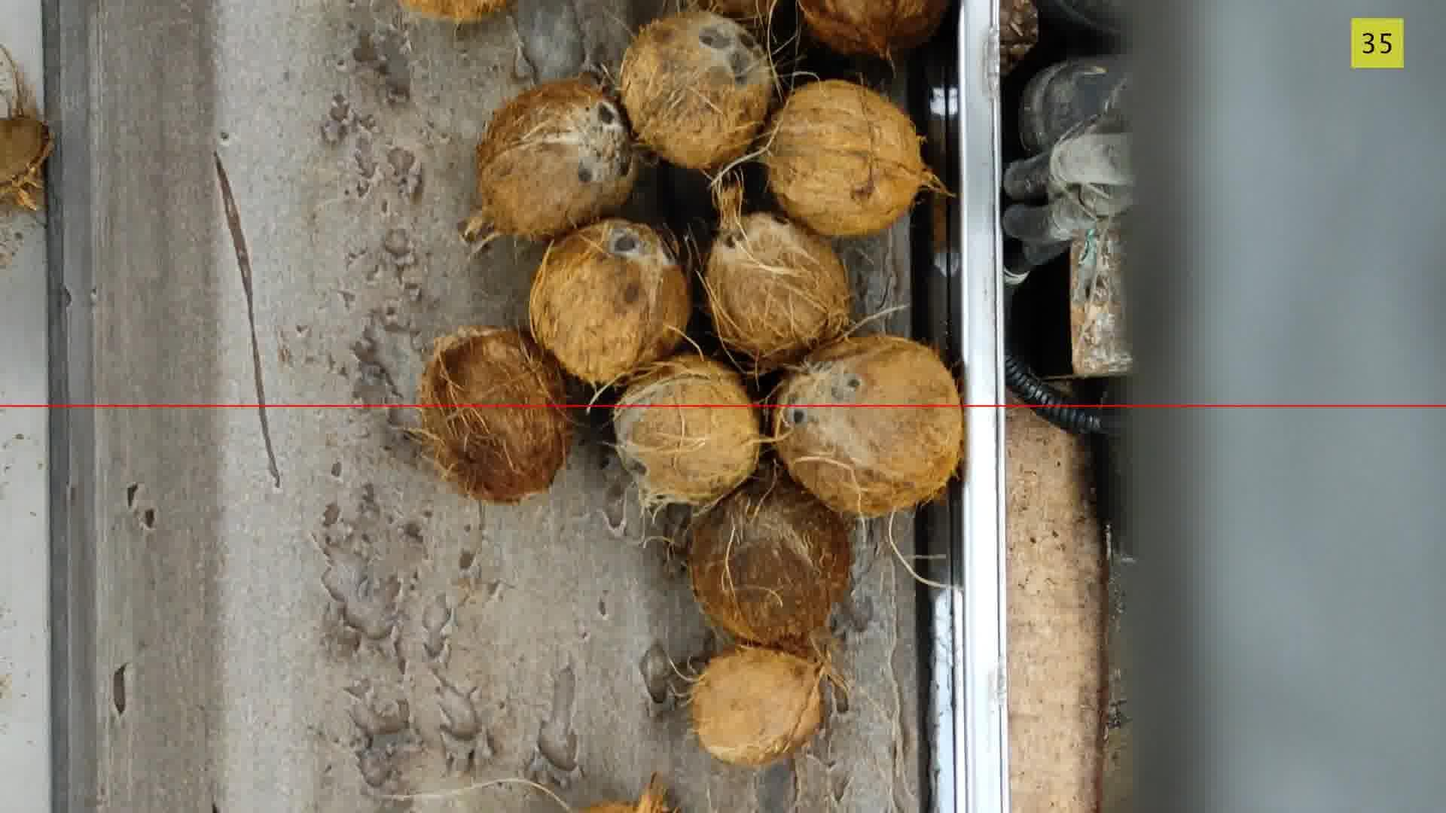Coconut: (773, 336, 965, 516), (688, 467, 851, 648), (465, 78, 639, 239), (763, 80, 941, 236), (704, 187, 852, 373), (529, 220, 691, 385), (619, 11, 774, 169), (428, 330, 571, 501), (615, 354, 762, 507), (691, 647, 824, 766), (0, 46, 53, 210), (799, 0, 948, 58), (0, 116, 53, 210), (581, 775, 669, 812), (999, 0, 1039, 75), (401, 0, 511, 23), (702, 0, 777, 25)
